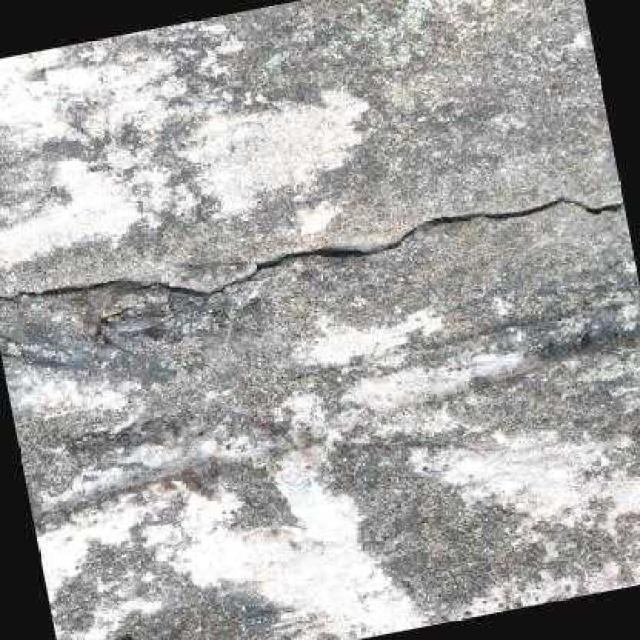D00: (0, 190, 624, 303)
